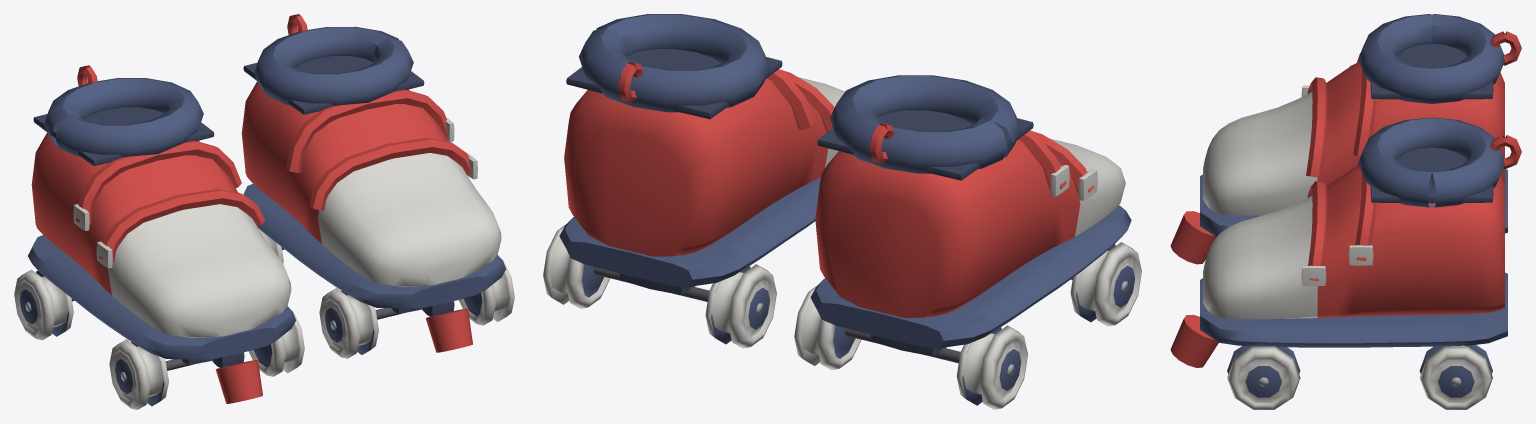
Rendered from skates.glb.
3 renders of one model, left to right at view 1: azimuth 30°, elevation 25°; view 2: azimuth 150°, elevation 25°; view 3: azimuth 270°, elevation 25°, orthographic. The views are drawn at different scales.
Visible parts, largest first — view 1: boot_r, boot_l, wheel_l_fr, wheel_r_fr, wheel_r_rr, wheel_r_fl, wheel_l_fl; view 2: boot_r, boot_l, wheel_l_rr, wheel_r_rr, wheel_r_fr, wheel_l_rl, wheel_r_rl; view 3: boot_l, boot_r, wheel_l_rl, wheel_l_fl.
Part boxes in pixels (bbox=[...]): boot_r: bbox=[28, 65, 295, 403]; boot_l: bbox=[241, 14, 505, 352]; wheel_l_fr: bbox=[319, 288, 378, 358]; wheel_r_fr: bbox=[109, 339, 168, 409]; wheel_r_rr: bbox=[14, 269, 73, 340]; wheel_r_fl: bbox=[248, 311, 304, 376]; wheel_l_fl: bbox=[458, 259, 514, 325]; boot_r: bbox=[810, 75, 1131, 363]; boot_l: bbox=[559, 14, 844, 301]; wheel_l_rr: bbox=[705, 264, 776, 348]; wheel_r_rr: bbox=[956, 325, 1027, 409]; wheel_r_fr: bbox=[1070, 242, 1141, 326]; wheel_l_rl: bbox=[543, 223, 610, 308]; wheel_r_rl: bbox=[794, 285, 861, 370]; boot_l: bbox=[1170, 117, 1521, 367]; boot_r: bbox=[1170, 14, 1521, 264]; wheel_l_rl: bbox=[1419, 345, 1492, 409]; wheel_l_fl: bbox=[1227, 346, 1300, 409].
Bounding box in the file's own units: 0.601 × 0.3553 × 0.478.
